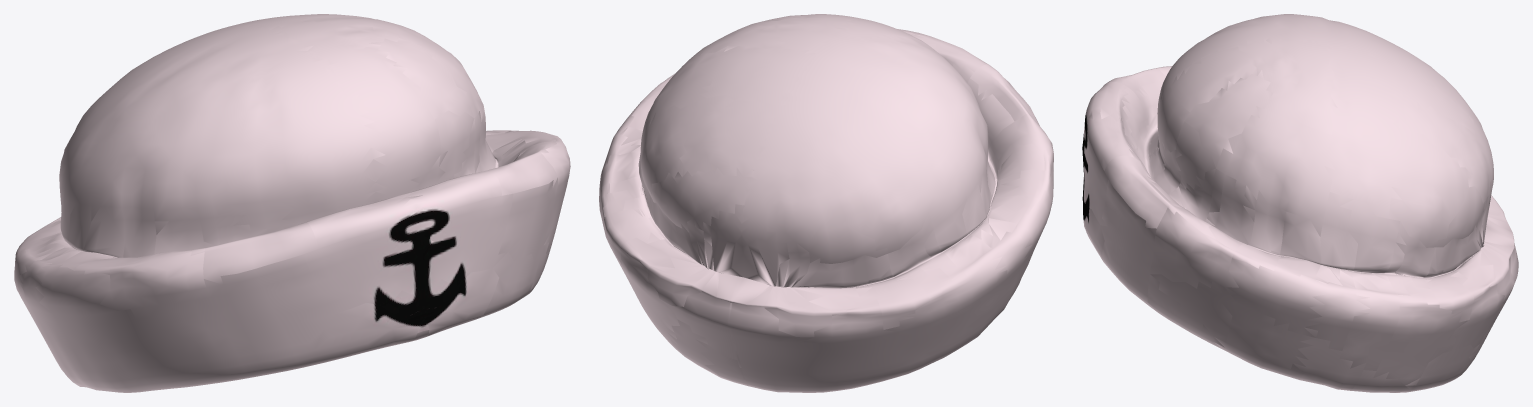
The model's file is Sailor.glb.
3 renders of one model, left to right at view 1: azimuth 30°, elevation 25°; view 2: azimuth 150°, elevation 25°; view 3: azimuth 270°, elevation 25°, orthographic. The views are drawn at different scales.
Visible parts, largest first — view 1: Sailor; view 2: Sailor; view 3: Sailor.
Boxes of the visible parts, bbox=[...] form: Sailor: bbox=[14, 14, 570, 392]; Sailor: bbox=[599, 14, 1053, 392]; Sailor: bbox=[1082, 14, 1518, 392].
Size of the model in its own units: 0.4655 by 0.3186 by 0.4029.
Materials: 1 (1 with a texture image).
